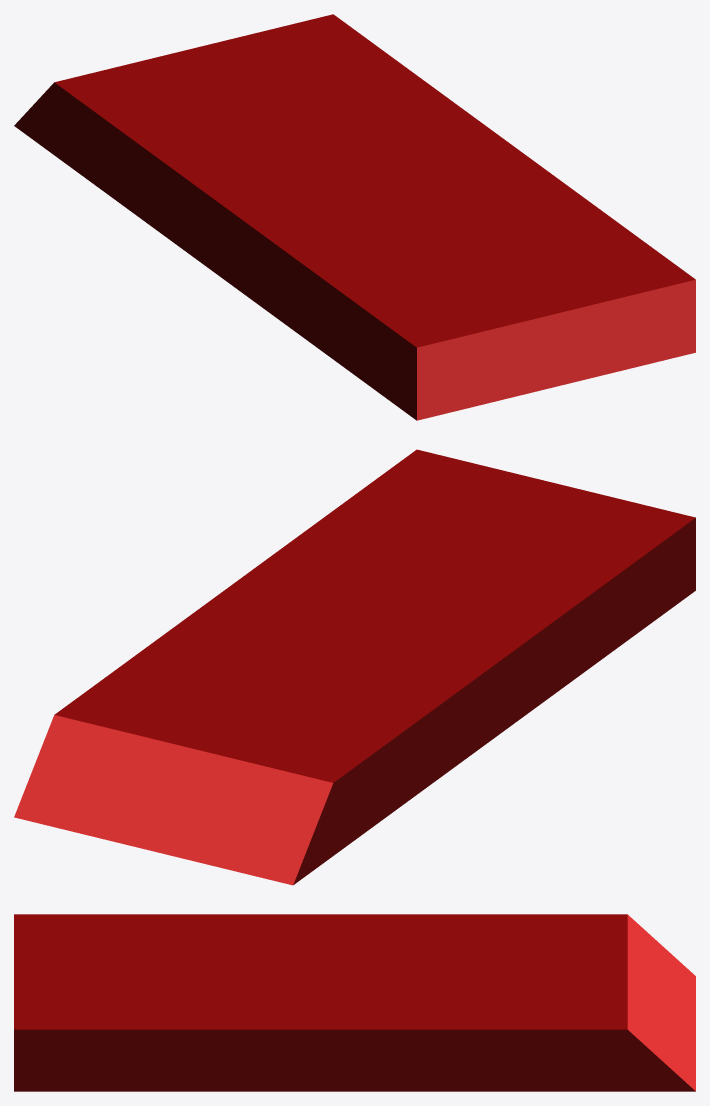
Rendered from 50cmstep2.dae.
3 views of the same model, one above another, from view 1: azimuth 30°, elevation 25°; view 2: azimuth 150°, elevation 25°; view 3: azimuth 270°, elevation 25° (orthographic). The views are drawn at different scales.
Visible parts, largest first — view 1: SketchUp (×3); view 2: SketchUp (×3); view 3: SketchUp (×3).
Part boxes in pixels (box(x1,y1,x2,y2)): SketchUp (×3): box(14, 14, 695, 420); SketchUp (×3): box(14, 449, 695, 885); SketchUp (×3): box(14, 914, 695, 1091).
Size of the model in its own units: 78.74 by 197 by 19.69.
